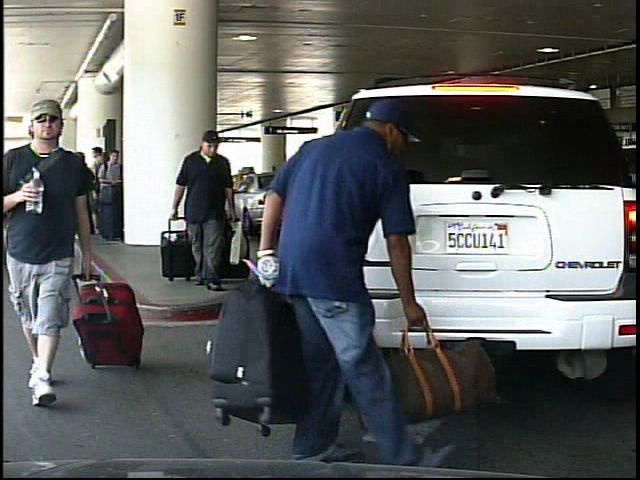person: (253, 76, 426, 469), (6, 96, 106, 408), (171, 129, 242, 291)
